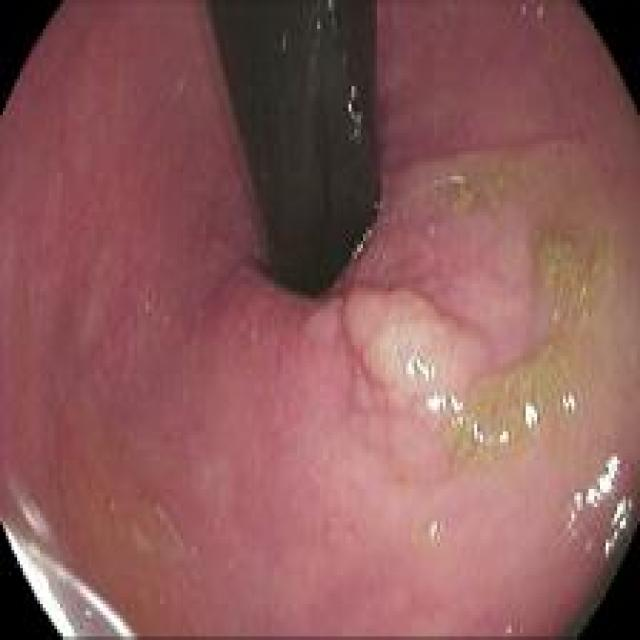Polyps: (344, 286, 491, 406)
